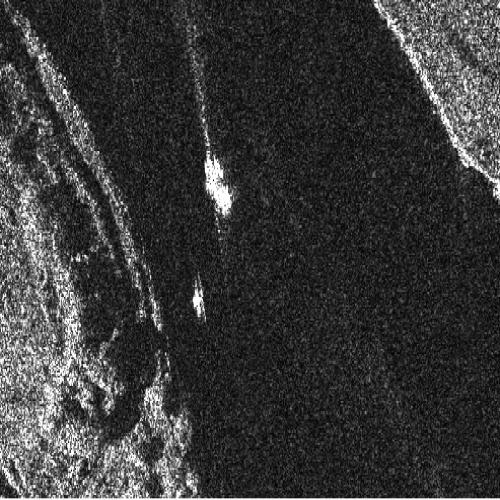ship: (204, 156, 232, 215), (191, 284, 202, 319)
